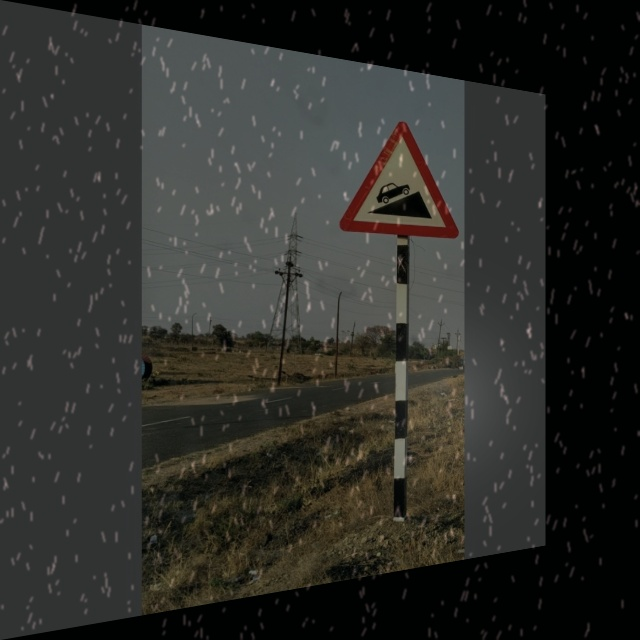Steep_Ascent: (333, 108, 461, 244)
